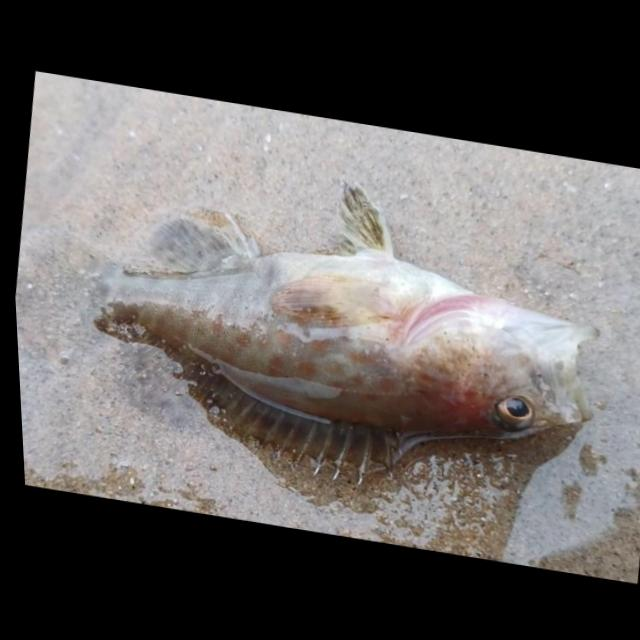Groupers: (68, 143, 624, 523)
